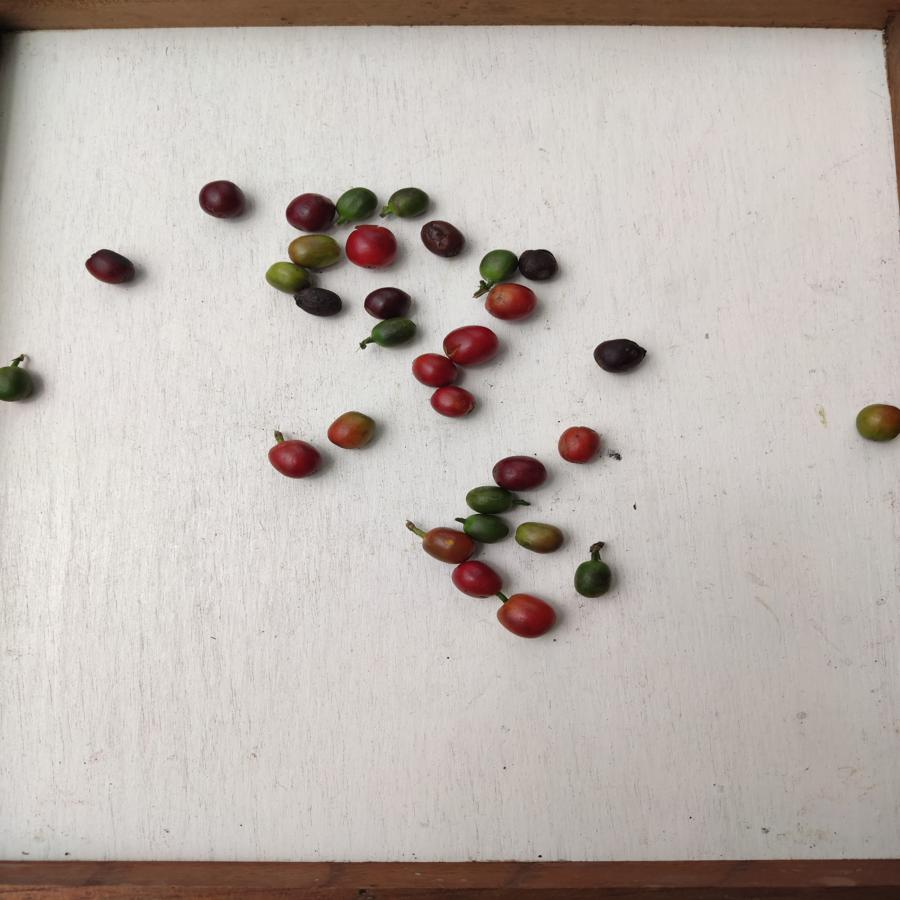Inmaduro: (570, 557, 614, 600), (467, 485, 520, 517), (383, 187, 431, 220), (370, 317, 418, 349), (459, 516, 510, 545), (1, 362, 34, 406), (478, 248, 517, 282), (338, 188, 377, 217)
Maduro: (497, 592, 558, 638), (346, 220, 398, 272), (268, 438, 322, 483), (444, 325, 497, 365), (486, 280, 534, 324), (554, 424, 604, 466), (450, 560, 502, 599), (428, 382, 480, 419), (411, 351, 459, 384)
Pinton: (326, 407, 377, 453), (416, 524, 472, 562), (856, 401, 900, 449), (515, 519, 564, 559), (289, 233, 341, 269), (264, 264, 308, 290)
Sobremaduro: (487, 455, 551, 489), (283, 194, 336, 232), (589, 338, 648, 372), (83, 249, 138, 285), (199, 180, 248, 220), (419, 218, 466, 256), (292, 287, 348, 317), (520, 245, 557, 285), (363, 287, 415, 315)
